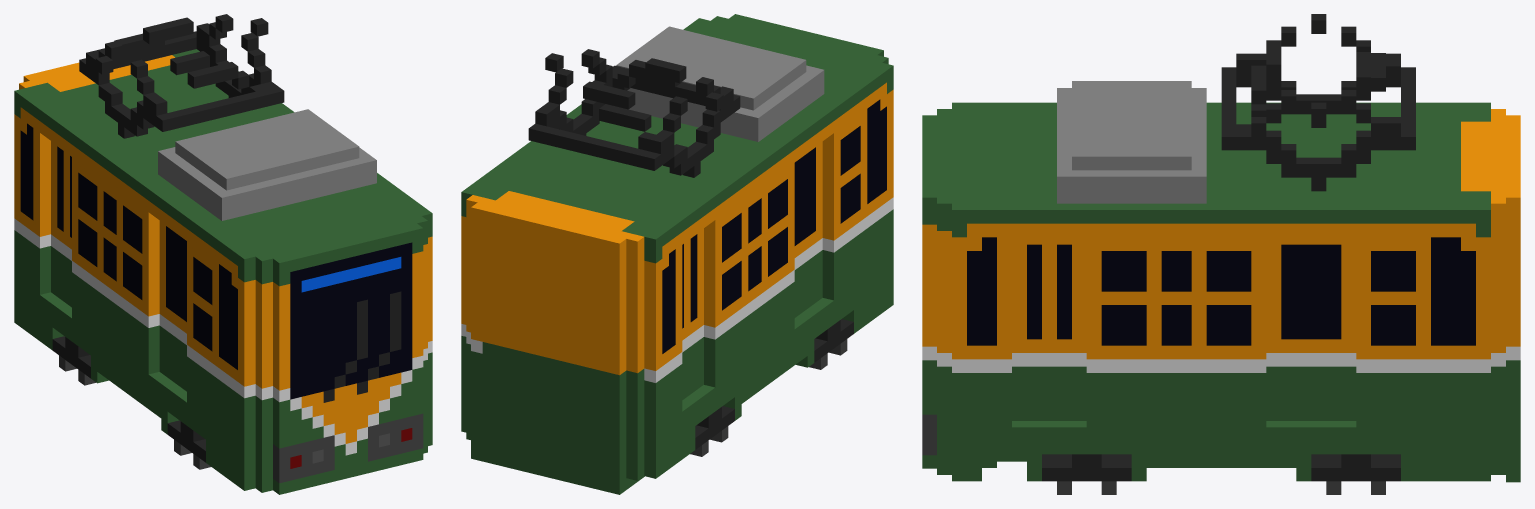
The model's file is kagoshimashiden 2.glb.
3 renders of one model, left to right at view 1: azimuth 30°, elevation 25°; view 2: azimuth 150°, elevation 25°; view 3: azimuth 270°, elevation 25°, orthographic. The views are drawn at different scales.
Visible parts, largest first — view 1: Untitled; view 2: Untitled; view 3: Untitled.
Boxes of the visible parts, left/top/right/bottom form: Untitled: left=14, top=14, right=432, bottom=494; Untitled: left=461, top=14, right=893, bottom=494; Untitled: left=922, top=14, right=1520, bottom=494.
Size of the model in its own units: 1.7 by 2.8 by 4.
1 material, 1 textured.
